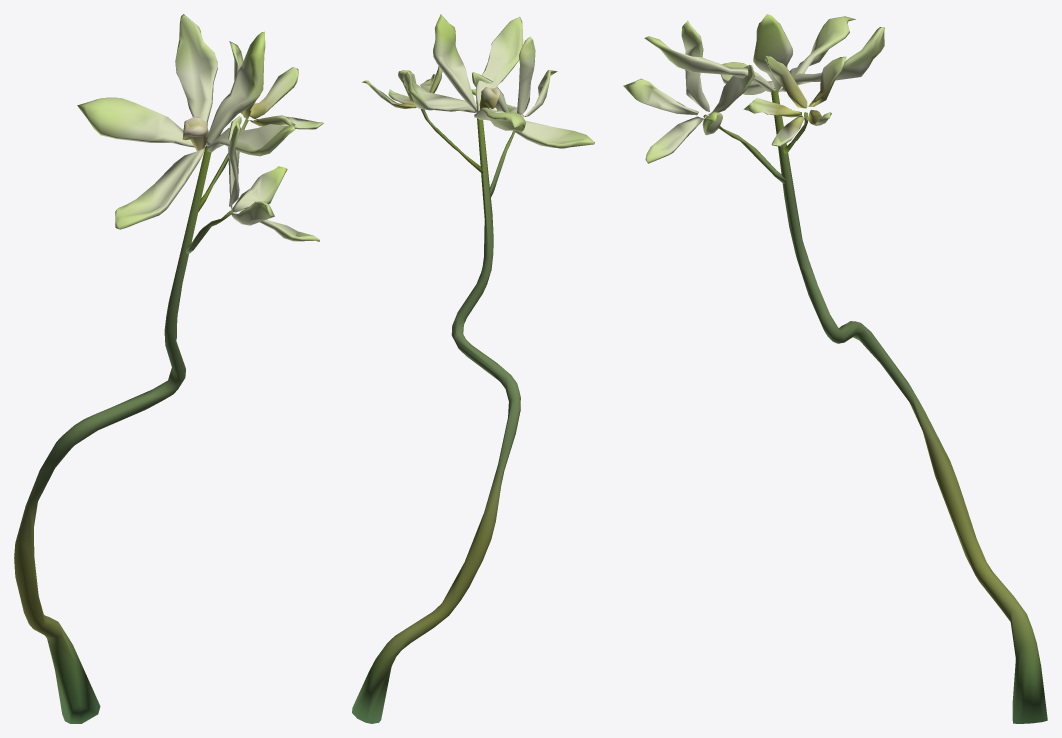
3 views of the same model, side by side, from view 1: azimuth 30°, elevation 25°; view 2: azimuth 150°, elevation 25°; view 3: azimuth 270°, elevation 25° (orthographic). The views are drawn at different scales.
Parts seen in each view (by area): view 1: LOD 5_8817940389063460455_bb9398364d468ec489d5e3c54dd32286; view 2: LOD 5_8817940389063460455_bb9398364d468ec489d5e3c54dd32286; view 3: LOD 5_8817940389063460455_bb9398364d468ec489d5e3c54dd32286.
Boxes of the visible parts, box(x1,y1,x2,y2) form: LOD 5_8817940389063460455_bb9398364d468ec489d5e3c54dd32286: box(14, 14, 323, 723); LOD 5_8817940389063460455_bb9398364d468ec489d5e3c54dd32286: box(352, 14, 594, 723); LOD 5_8817940389063460455_bb9398364d468ec489d5e3c54dd32286: box(623, 14, 1047, 723).
Bounding box in the file's own units: 4.97 × 15.48 × 8.12.
